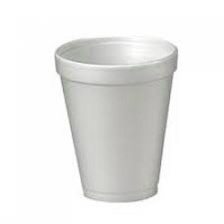paper_cup: (48, 28, 182, 207)
